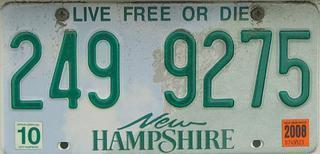placa de veiculo: (3, 2, 316, 154)
